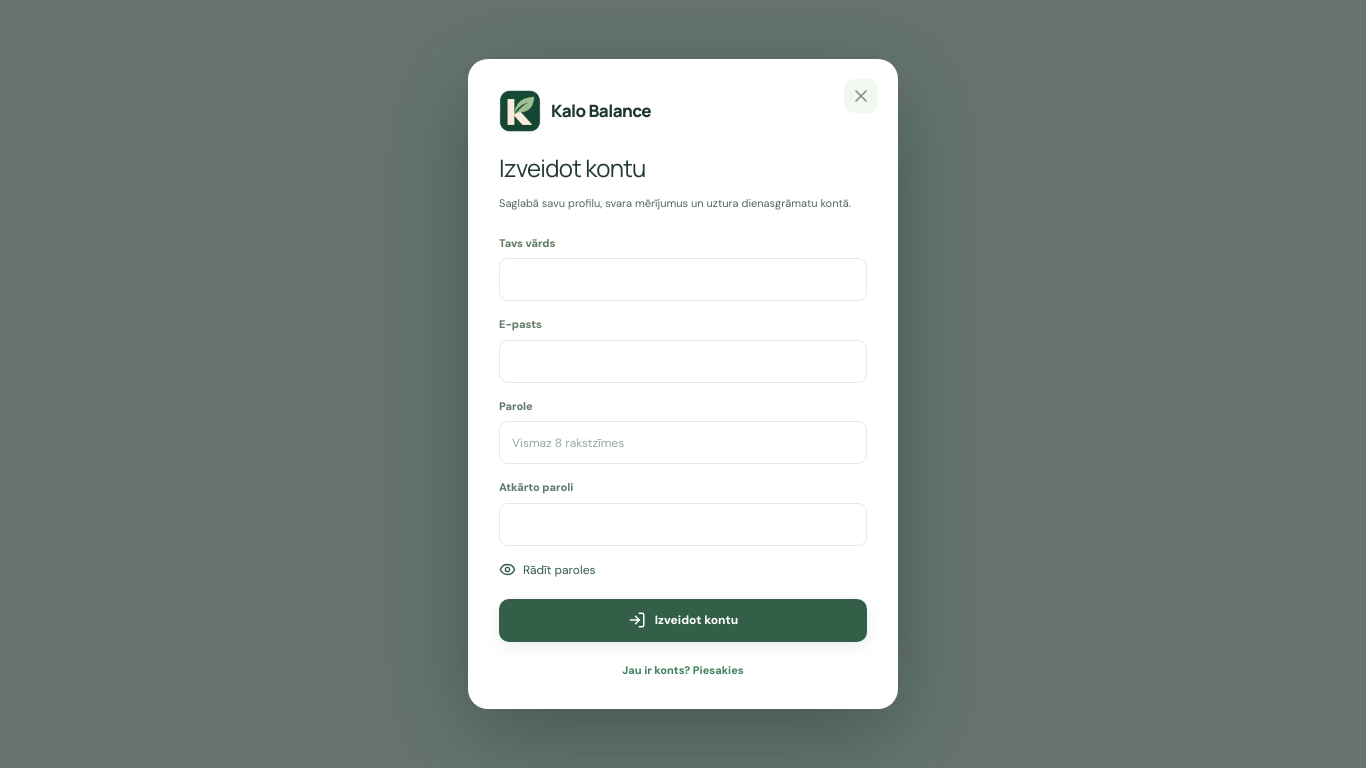
Test: Existing authentication form › shows a translated mismatch and does not submit in lv
Type "Test User" into the field labelled "Tavs vārds" at (683, 280), box [499,258,867,301]
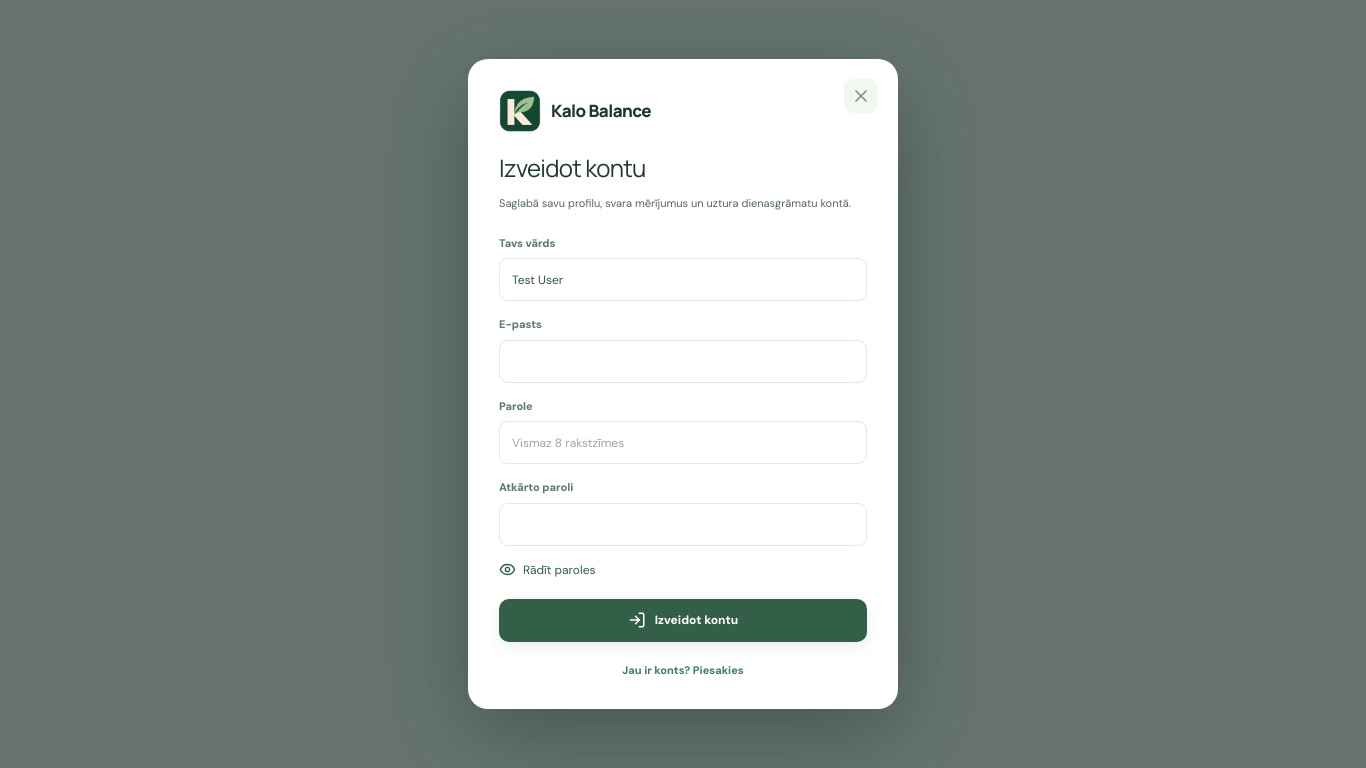
Type "user@example.test" into the field labelled "E-pasts" at (683, 361), box [499,340,867,383]
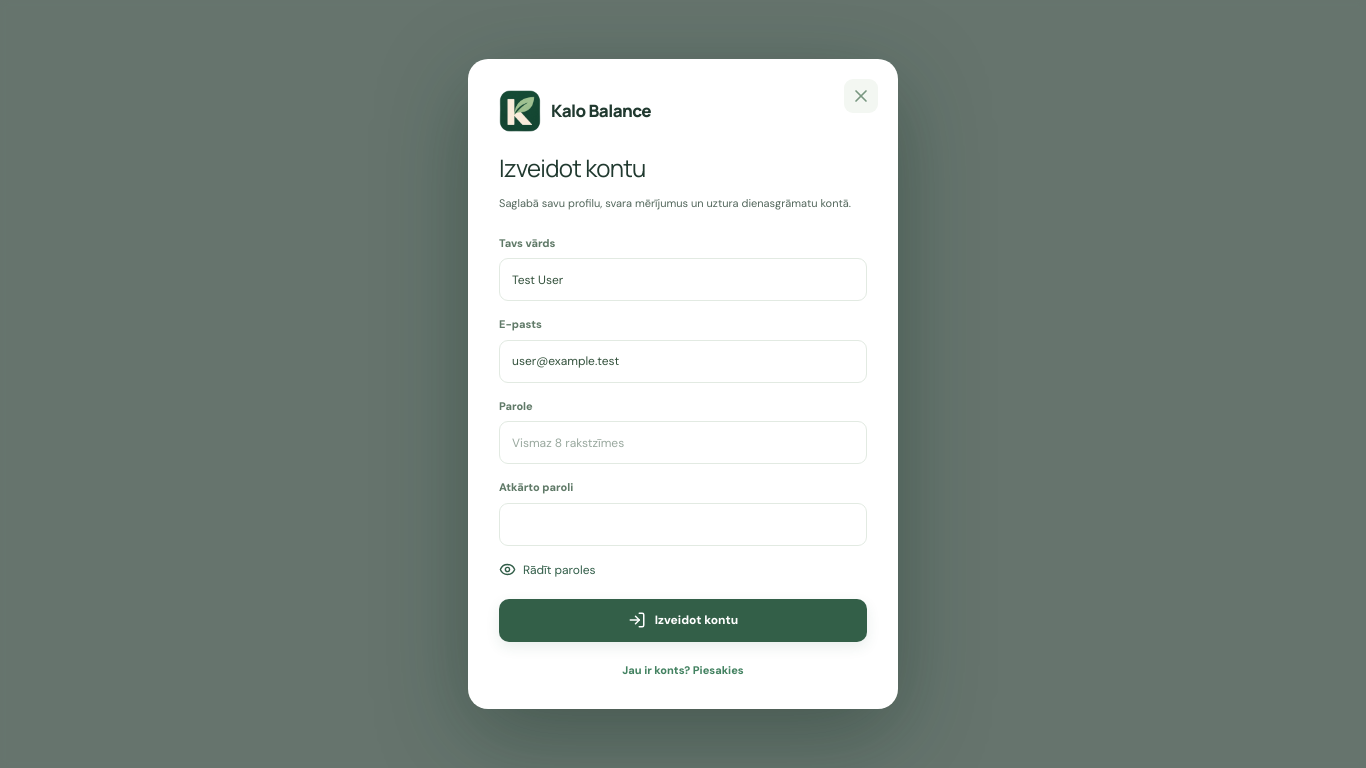
Type "Password123" into the password field labelled "Parole" at (683, 443), box [499,421,867,464]
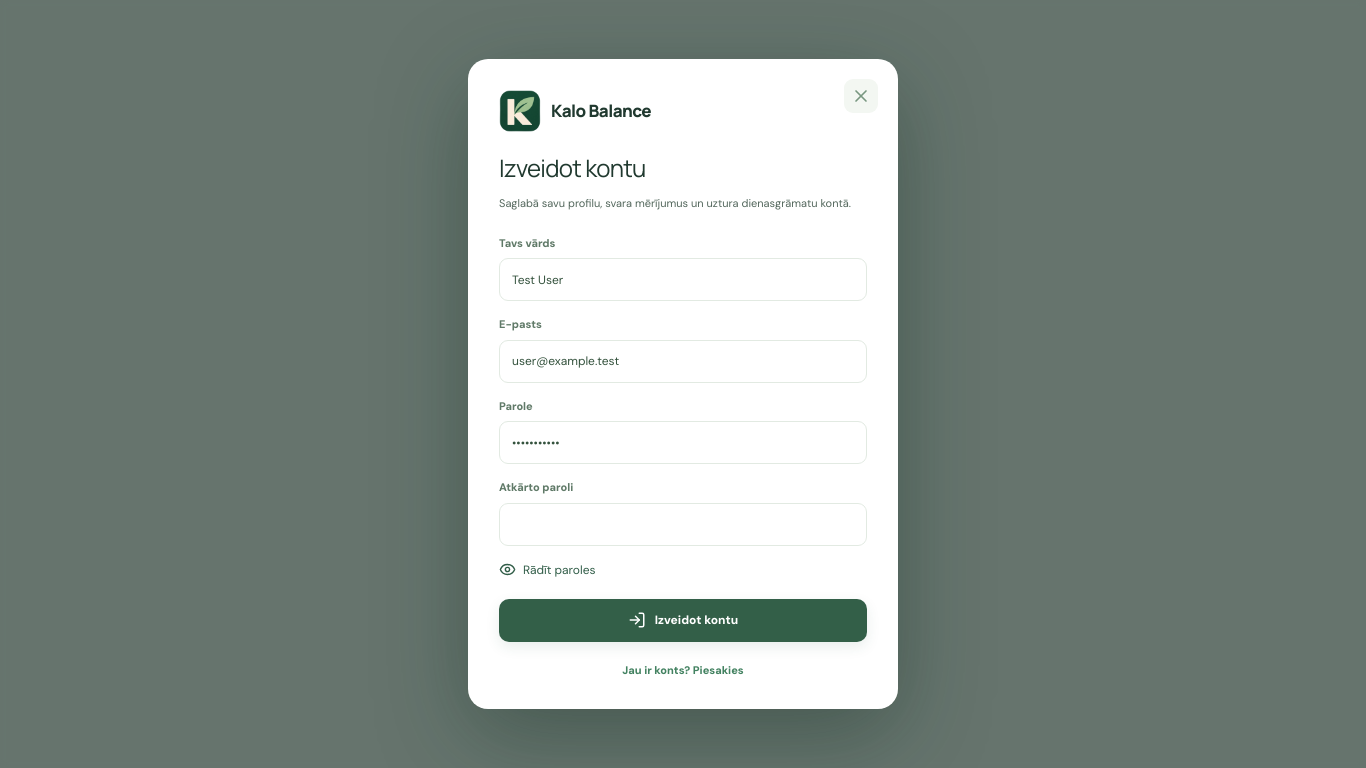
Type "Different123" into the password field labelled "Atkārto paroli" at (683, 524), box [499,503,867,546]
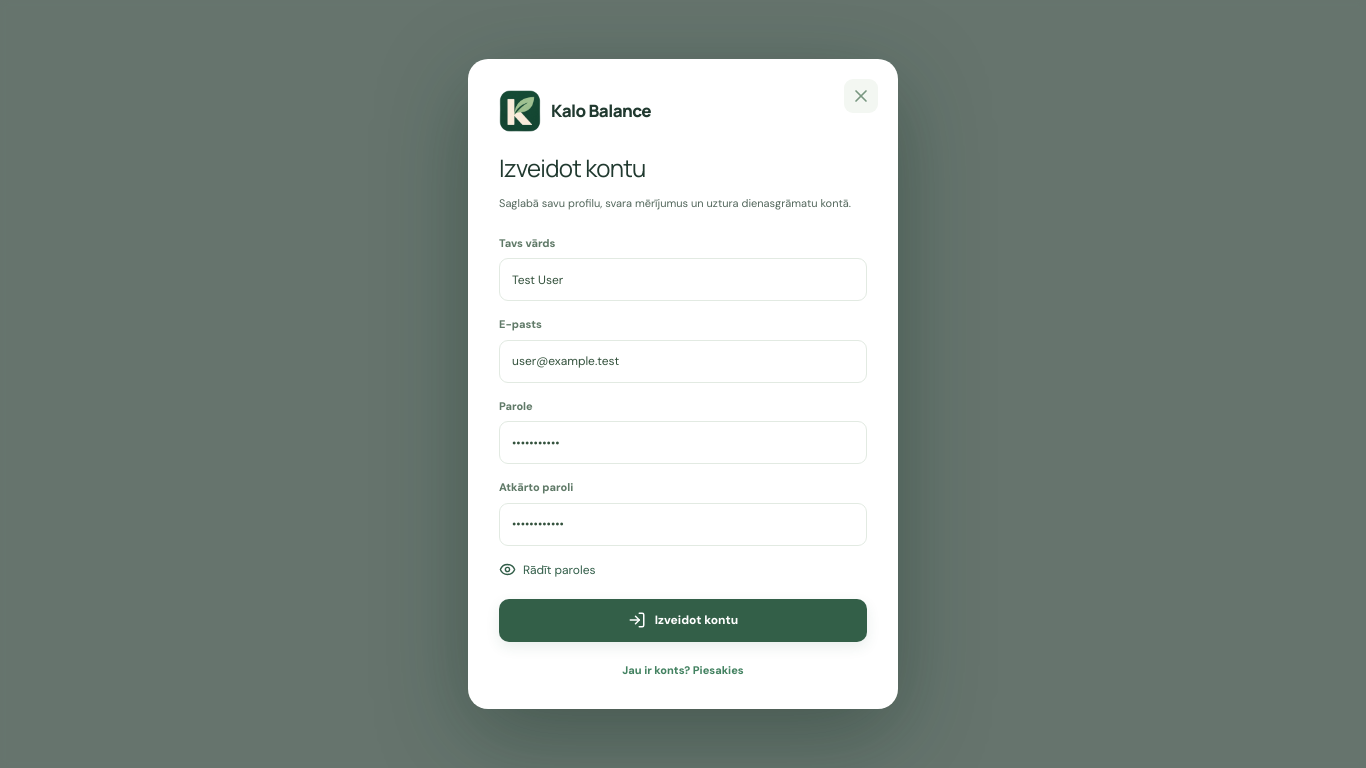
Click the button "Izveidot kontu" at (683, 620), box [499,599,867,642]
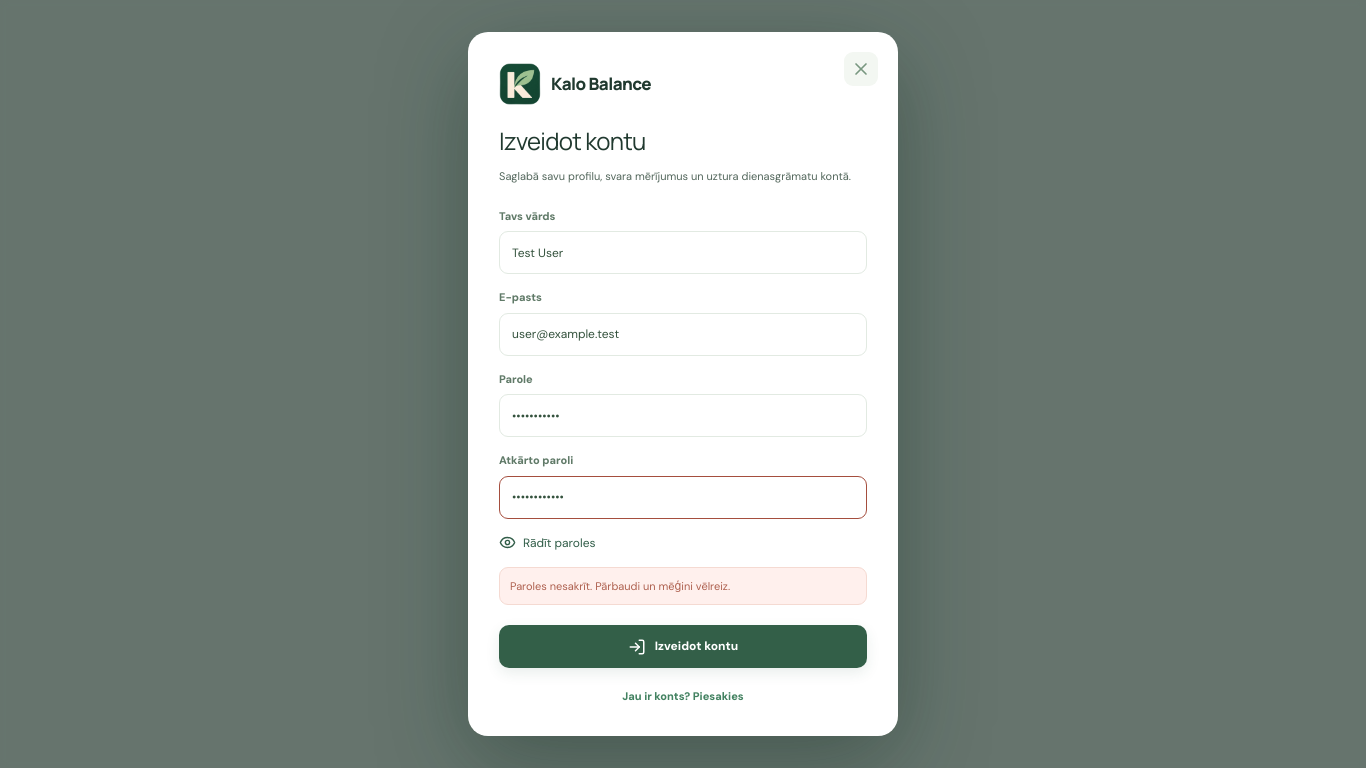
Result: the message reads "Paroles nesakrīt. Pārbaudi un mēģini vēlreiz." at [510,579,730,593]
